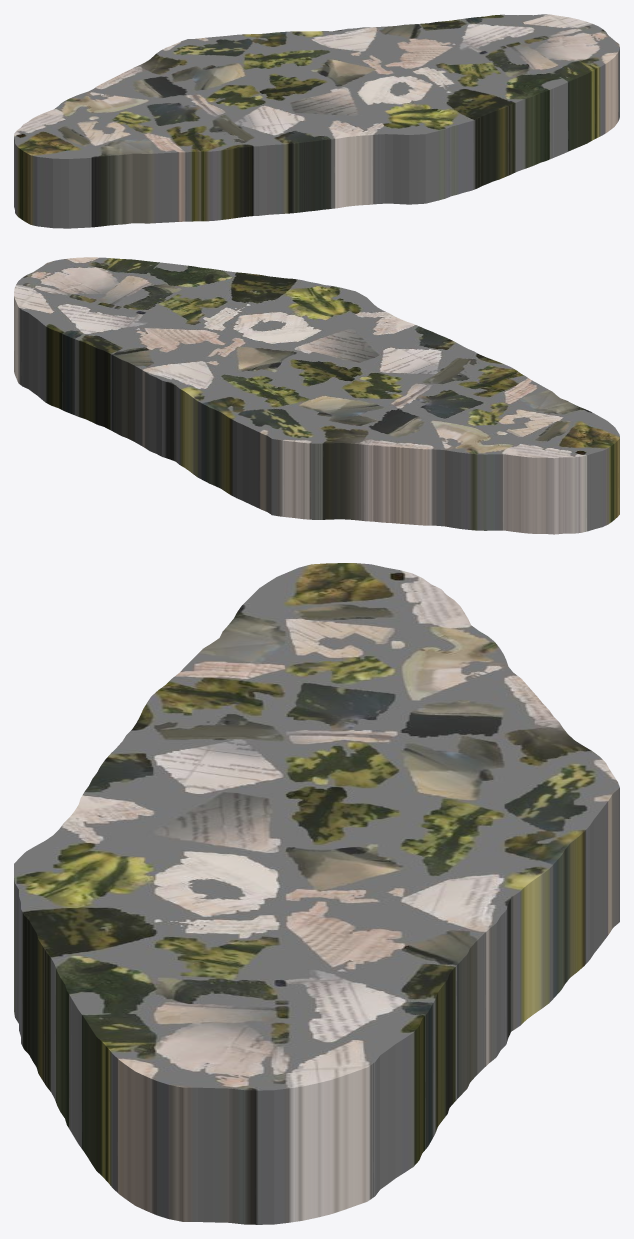
3 renders of one model, top to bottom at view 1: azimuth 30°, elevation 25°; view 2: azimuth 150°, elevation 25°; view 3: azimuth 270°, elevation 25°, orthographic. The views are drawn at different scales.
Bounding box in the file's own units: 1 × 0.1187 × 0.4855.
